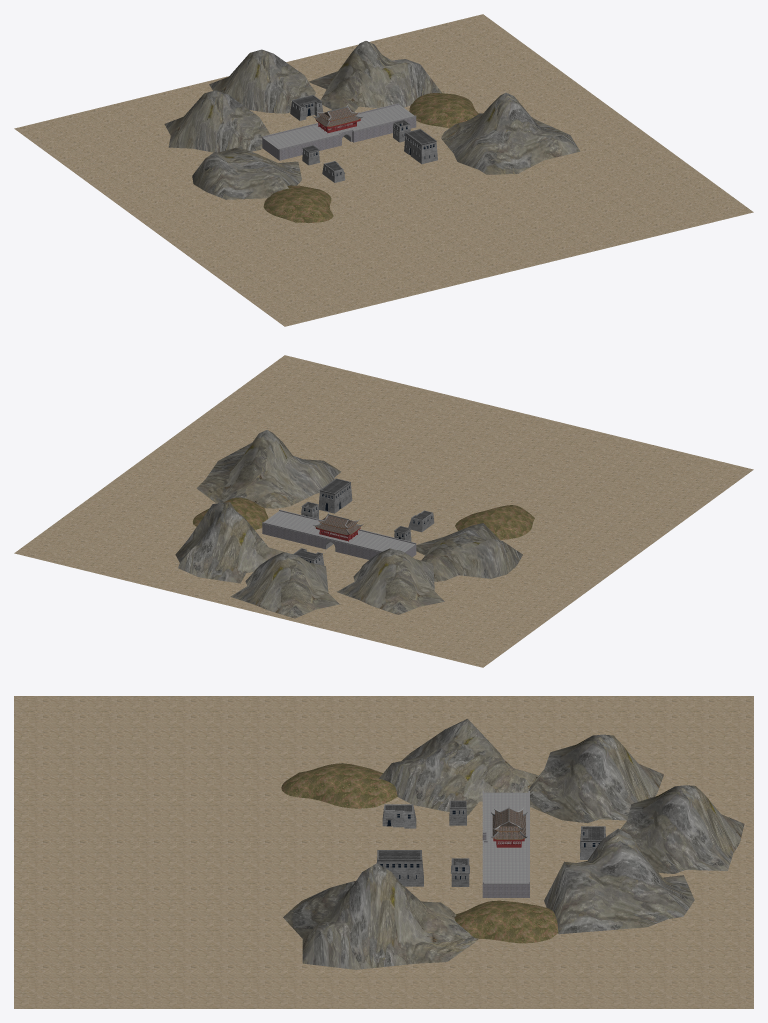
The model's file is map.fbx.
3 views of the same model, one above another, from view 1: azimuth 30°, elevation 25°; view 2: azimuth 150°, elevation 25°; view 3: azimuth 270°, elevation 25° (orthographic). The views are drawn at different scales.
Parts seen in each view (by area): view 1: chanjin; view 2: chanjin; view 3: chanjin.
Boxes of the visible parts, box(x1,y1,x2,y2) form: chanjin: box(14, 14, 753, 326); chanjin: box(14, 355, 753, 667); chanjin: box(14, 696, 753, 1008).
Bounding box in the file's own units: 398 × 41.61 × 398.
18 materials, 15 textured.
